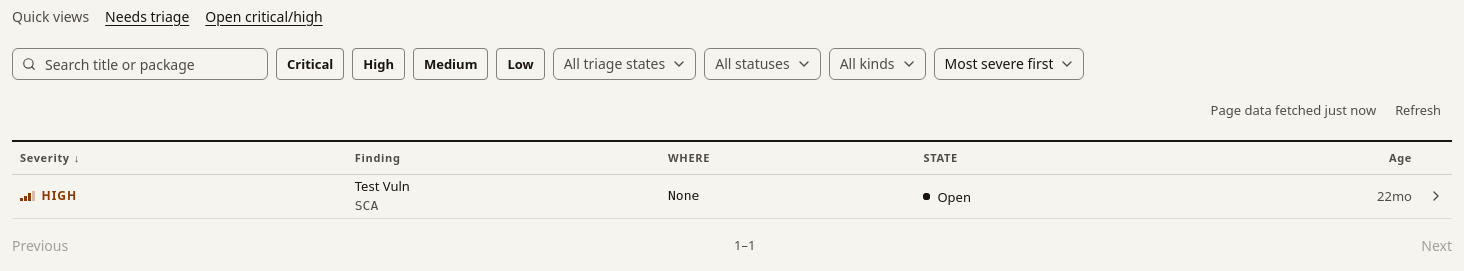
Scenario: FindingsDashboard › keeps the filters reachable when they match nothing and clears them on demand
Expected: the link "Test Vuln" is shown, [355,177,410,195]
Click the button "Critical": (310,64) [276,48,344,80]
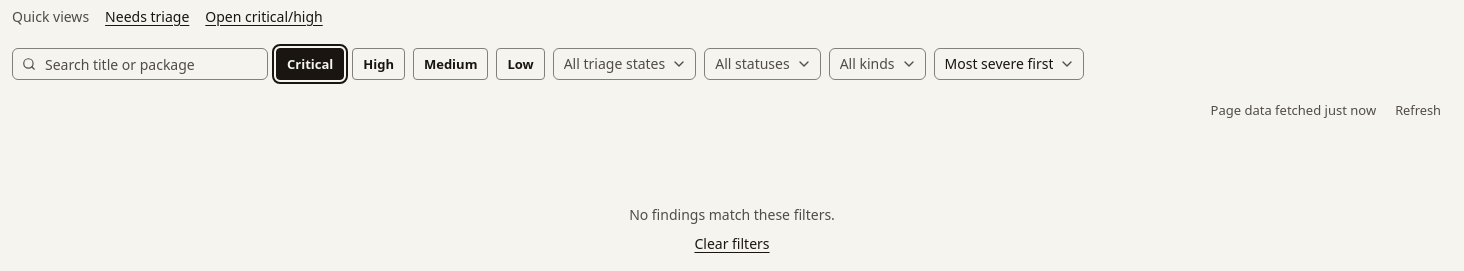
Expected: the element named "Filter by severity" is shown, [276,48,545,80]
Result: the text "No findings match these filters." is shown at [629,204,835,225]
Click the button "Clear filters": (732,244) [694,233,770,254]
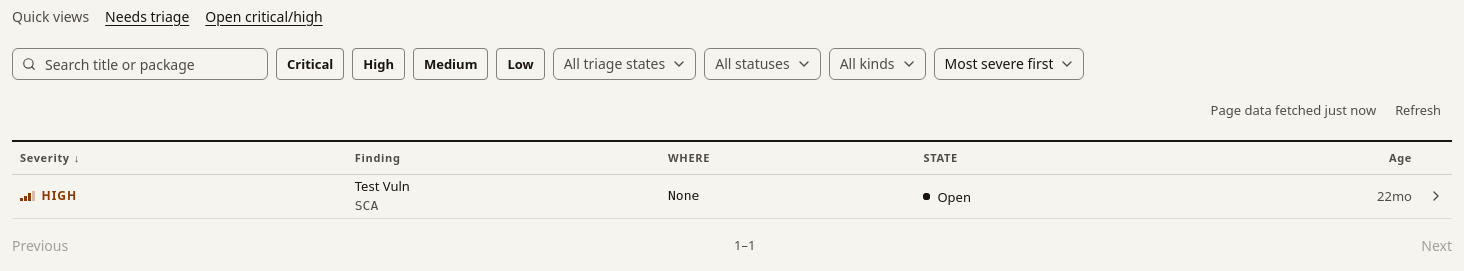
Result: the link "Test Vuln" is shown at [355,177,410,195]
